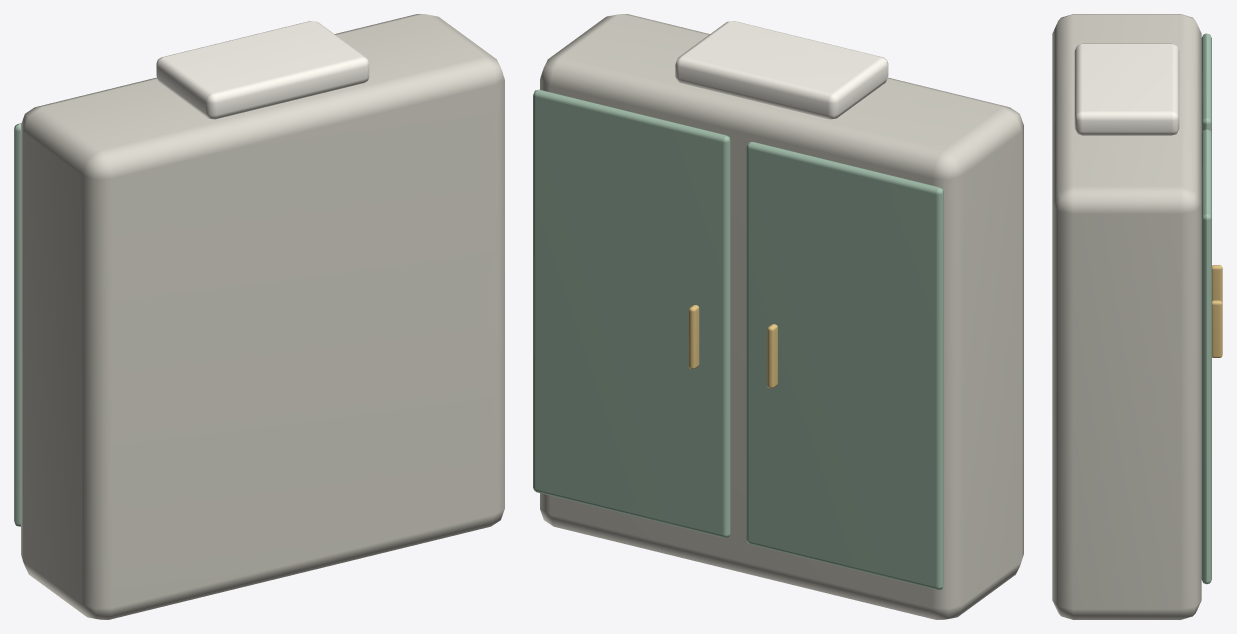
Rendered from Cupboard.fbx.
3 views of the same model, side by side, from view 1: azimuth 30°, elevation 25°; view 2: azimuth 150°, elevation 25°; view 3: azimuth 270°, elevation 25° (orthographic). The views are drawn at different scales.
Parts seen in each view (by area): view 1: Cupboard_Ivory, Cupboard_Linen, Cupboard_Sage; view 2: Cupboard_Sage, Cupboard_Ivory, Cupboard_Linen, Cupboard_Gold; view 3: Cupboard_Ivory, Cupboard_Linen, Cupboard_Sage, Cupboard_Gold.
Part boxes in pixels (left/top/right/bottom): Cupboard_Ivory: left=21, top=14, right=504, bottom=619; Cupboard_Linen: left=156, top=21, right=369, bottom=119; Cupboard_Sage: left=14, top=123, right=21, bottom=526; Cupboard_Sage: left=533, top=89, right=943, bottom=589; Cupboard_Ivory: left=540, top=14, right=1023, bottom=619; Cupboard_Linen: left=675, top=21, right=888, bottom=119; Cupboard_Gold: left=688, top=305, right=777, bottom=388; Cupboard_Ivory: left=1052, top=14, right=1201, bottom=619; Cupboard_Linen: left=1074, top=43, right=1179, bottom=135; Cupboard_Sage: left=1201, top=33, right=1211, bottom=584; Cupboard_Gold: left=1212, top=265, right=1222, bottom=357.
Bounding box in the file's own units: 150 × 169 × 57.
